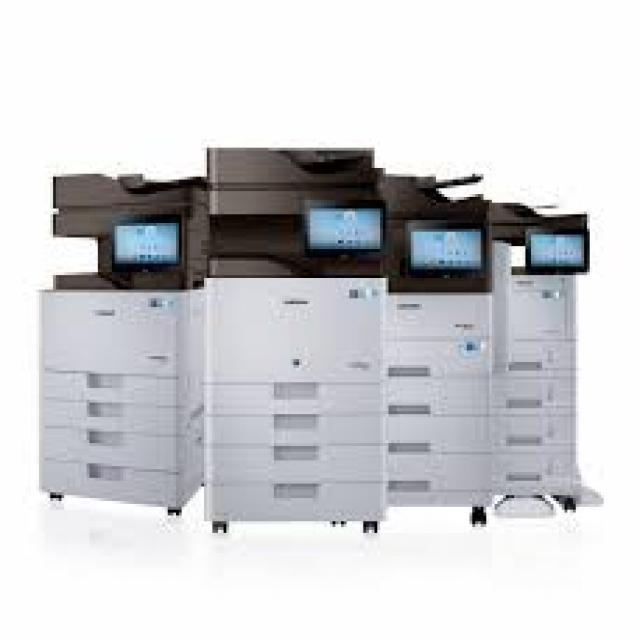printer: (206, 145, 389, 526), (40, 171, 205, 528), (378, 167, 496, 520), (487, 192, 599, 522)
